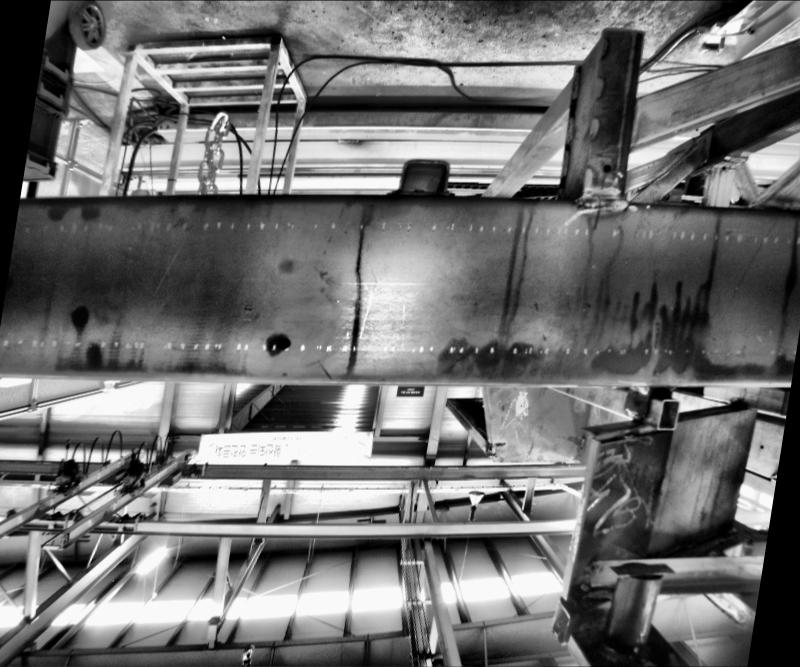bracket: (384, 158, 464, 200)
hole: (280, 336, 290, 348), (602, 164, 614, 172)
welding: (576, 189, 626, 209)
